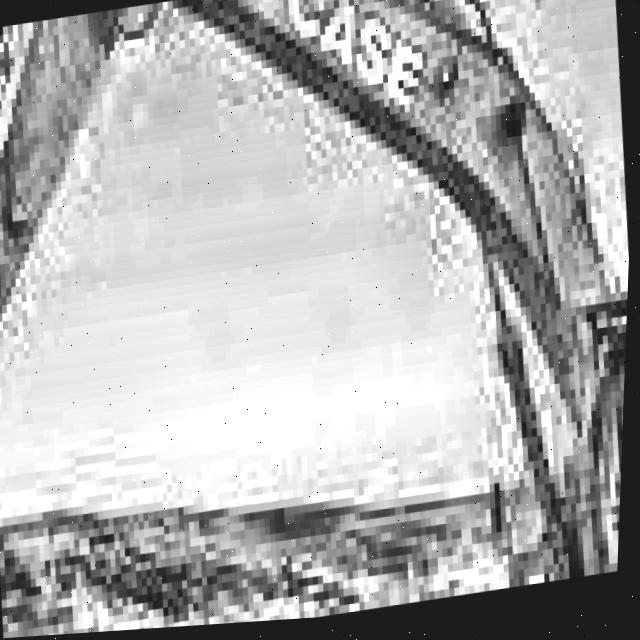excavator: (428, 217, 633, 604)
